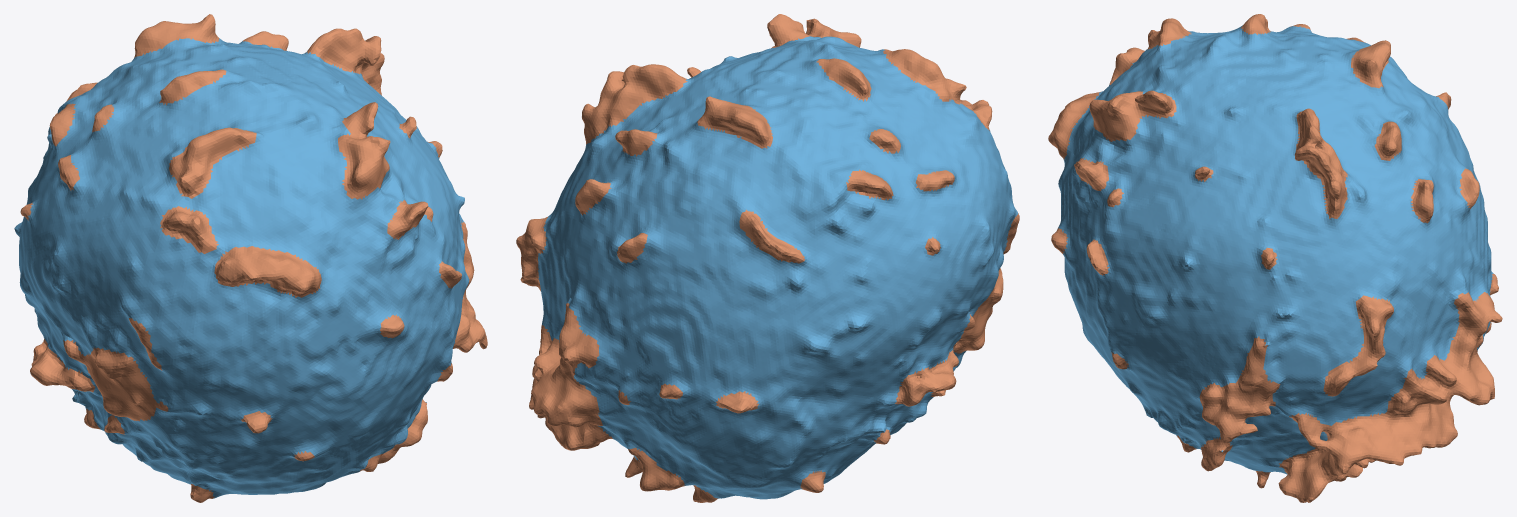
3 views of the same model, side by side, from view 1: azimuth 30°, elevation 25°; view 2: azimuth 150°, elevation 25°; view 3: azimuth 270°, elevation 25° (orthographic). The views are drawn at different scales.
Size of the model in its own units: 127 by 126 by 127.
